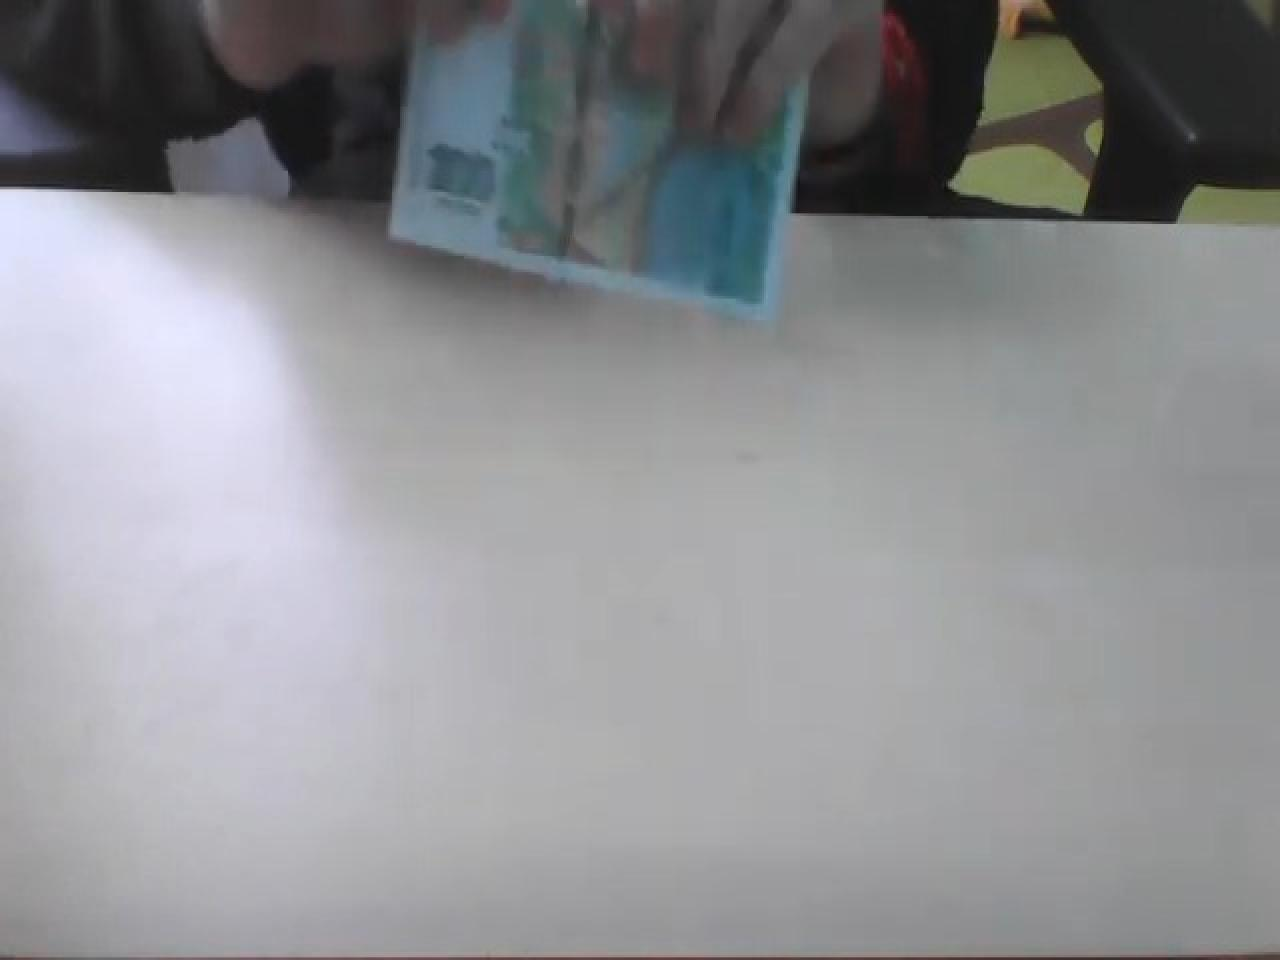100leva: (386, 0, 816, 317)
